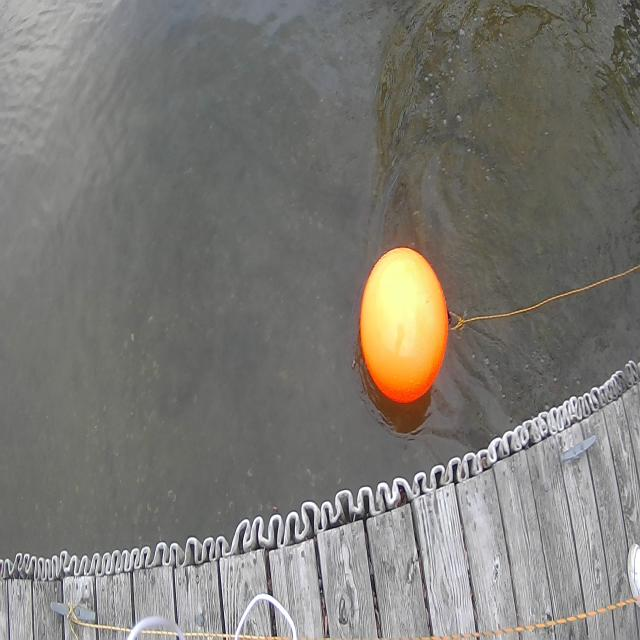Buoy: (353, 245, 458, 425)
